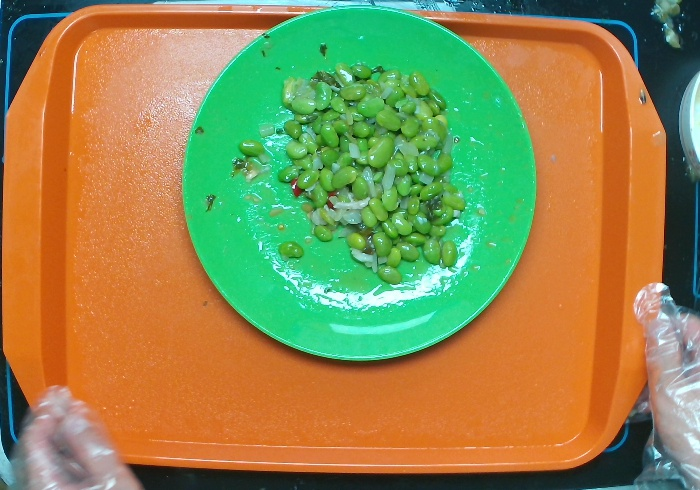HZYJPL-Lv_Se_Yuan_Pan: (181, 1, 536, 367)
